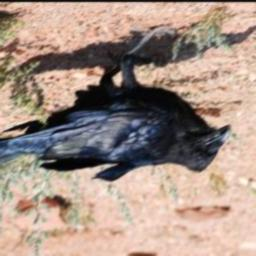Crow: (0, 22, 233, 183)
